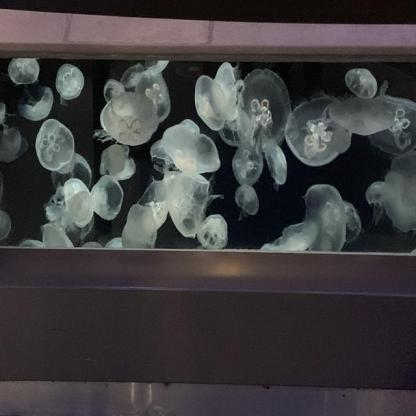jellyfish: (284, 96, 356, 171), (235, 62, 288, 146), (155, 116, 223, 179), (163, 167, 215, 241), (98, 90, 160, 150), (303, 179, 350, 252), (188, 64, 233, 138), (370, 85, 416, 157), (332, 90, 392, 144), (382, 148, 416, 237), (128, 64, 174, 122), (260, 214, 316, 259), (34, 115, 76, 173), (47, 151, 95, 199), (118, 202, 160, 251), (89, 171, 127, 224), (210, 59, 240, 124), (60, 175, 95, 228), (16, 84, 57, 125), (231, 140, 266, 188), (329, 197, 363, 244), (263, 138, 294, 186), (344, 63, 381, 103), (196, 211, 233, 251), (101, 134, 136, 176), (54, 61, 88, 104), (7, 56, 44, 92), (233, 181, 262, 219), (40, 217, 72, 250), (101, 76, 134, 107), (364, 176, 394, 210), (0, 126, 24, 166), (0, 209, 11, 240)
